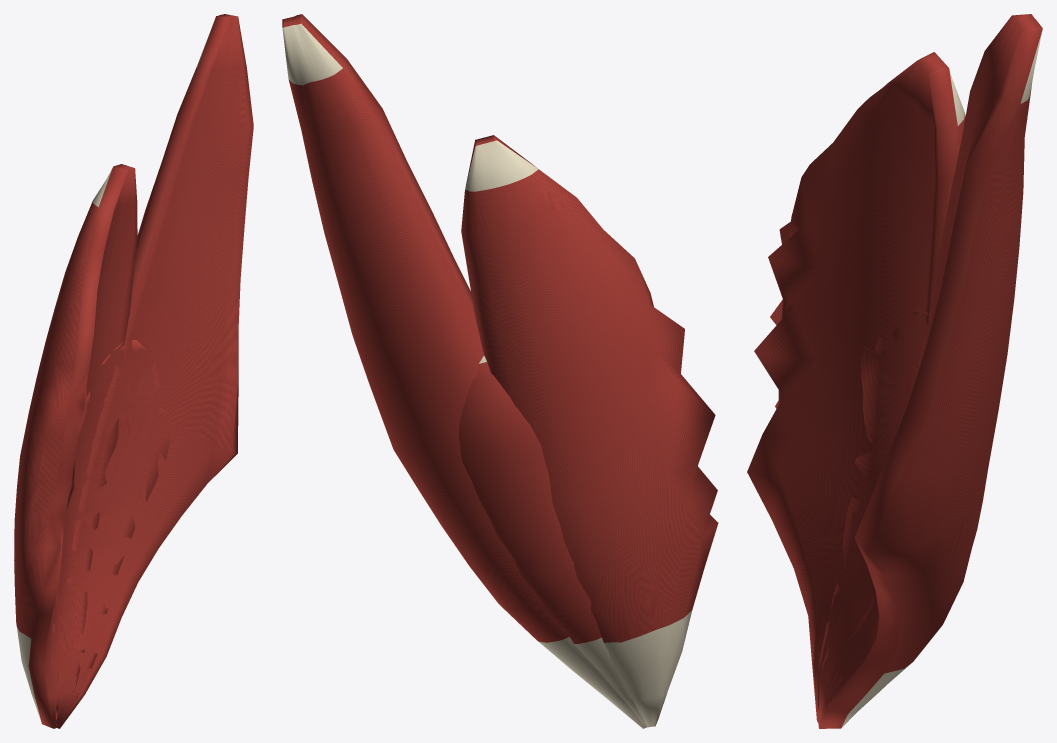
File: right-triceps-brachii.glb
3 renders of one model, left to right at view 1: azimuth 30°, elevation 25°; view 2: azimuth 150°, elevation 25°; view 3: azimuth 270°, elevation 25°, orthographic. The views are drawn at different scales.
Parts seen in each view (by area): view 1: Right triceps brachii long, Right triceps brachii lateral, Right triceps brachii medial; view 2: Right triceps brachii lateral, Right triceps brachii long, Right triceps brachii medial; view 3: Right triceps brachii lateral, Right triceps brachii long, Right triceps brachii medial.
Part boxes in pixels (x1=…): Right triceps brachii long: x1=54, y1=14, x2=253, y2=728; Right triceps brachii lateral: x1=14, y1=164, x2=137, y2=728; Right triceps brachii medial: x1=51, y1=340, x2=170, y2=727; Right triceps brachii lateral: x1=461, y1=135, x2=718, y2=727; Right triceps brachii long: x1=282, y1=14, x2=647, y2=728; Right triceps brachii medial: x1=459, y1=355, x2=647, y2=726; Right triceps brachii lateral: x1=747, y1=52, x2=965, y2=723; Right triceps brachii long: x1=817, y1=14, x2=1042, y2=728; Right triceps brachii medial: x1=817, y1=310, x2=928, y2=723.
Bounding box in the file's own units: 0.11 × 0.2166 × 0.0659.
2 materials, 2 textured.
